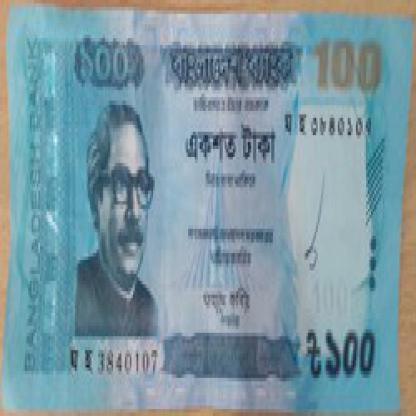one hundred taka: (305, 24, 386, 104), (70, 28, 141, 97), (322, 326, 384, 392)
